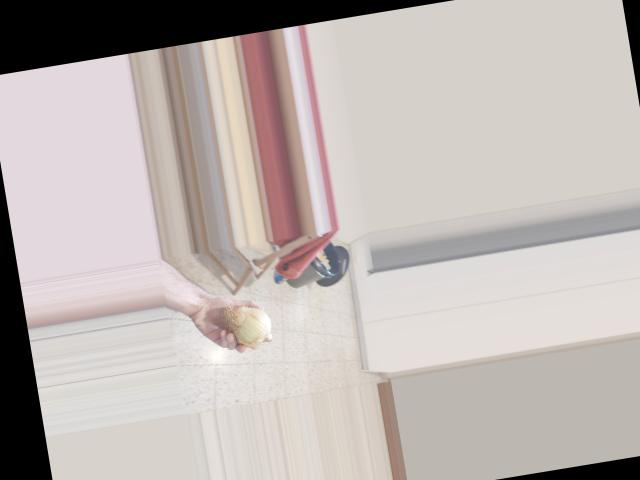onion: (223, 298, 275, 350)
